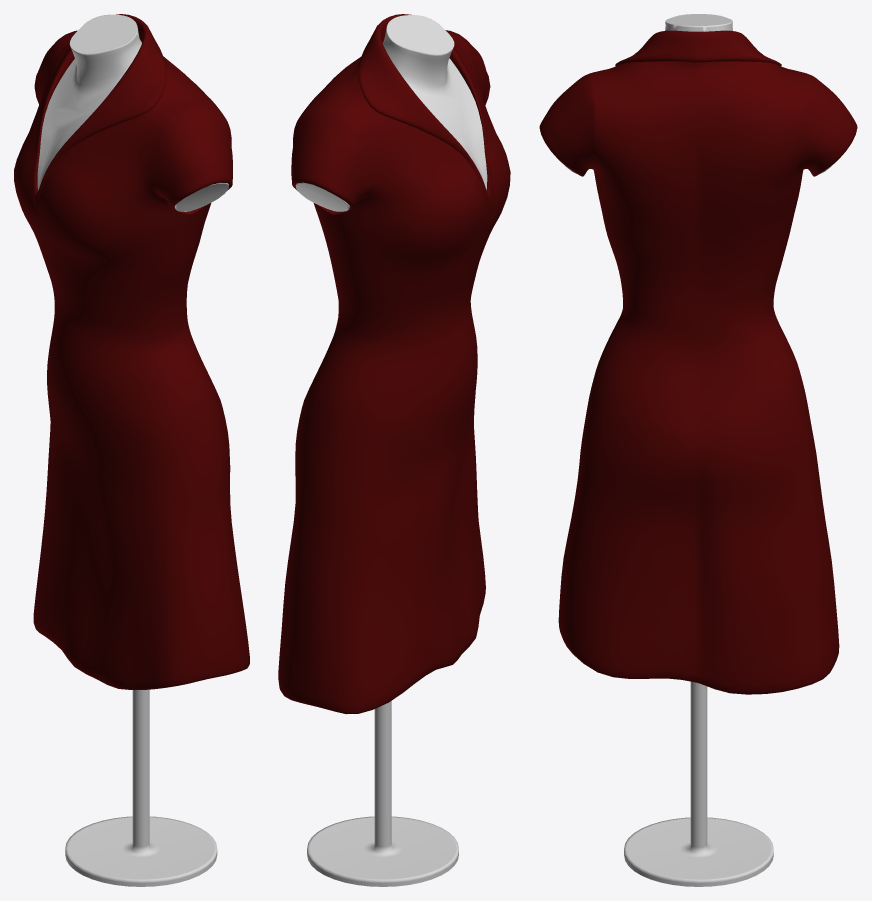
The model's file is dress  1.fbx.
3 views of the same model, side by side, from view 1: azimuth 30°, elevation 25°; view 2: azimuth 150°, elevation 25°; view 3: azimuth 270°, elevation 25° (orthographic).
Parts seen in each view (by area): view 1: dress, hang; view 2: dress, hang; view 3: dress, hang.
Part boxes in pixels (x1=…): dress: x1=14, y1=14, x2=249, y2=689; hang: x1=37, y1=14, x2=228, y2=886; dress: x1=278, y1=14, x2=510, y2=714; hang: x1=295, y1=15, x2=487, y2=886; dress: x1=539, y1=30, x2=857, y2=694; hang: x1=560, y1=14, x2=835, y2=886.
Size of the model in its own units: 134 by 618 by 216.
3 materials, 1 textured.
